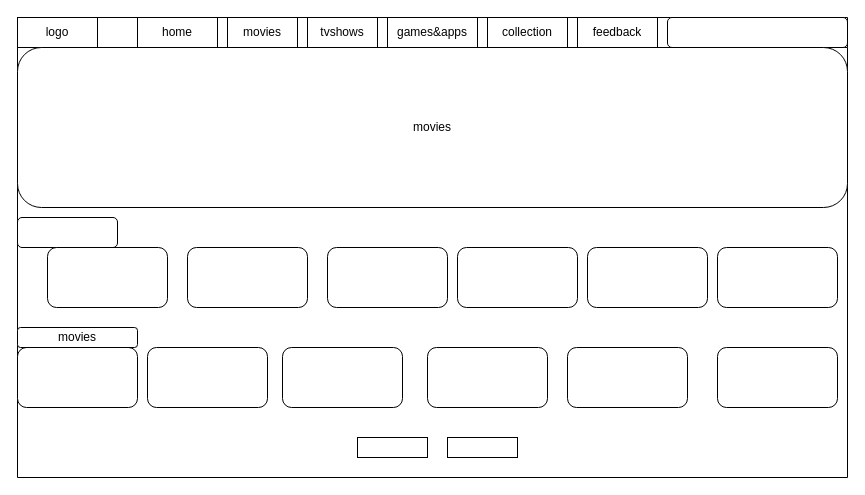
This 865x495 diagram has some shape labels left out. The shapes that lost their labels are listed below. From the top down, each one's centre as x and y in pixels, then its label:
(757,32): find movies to watch
(67,232): Latest Movies
(392,447): previous
(482,447): next
